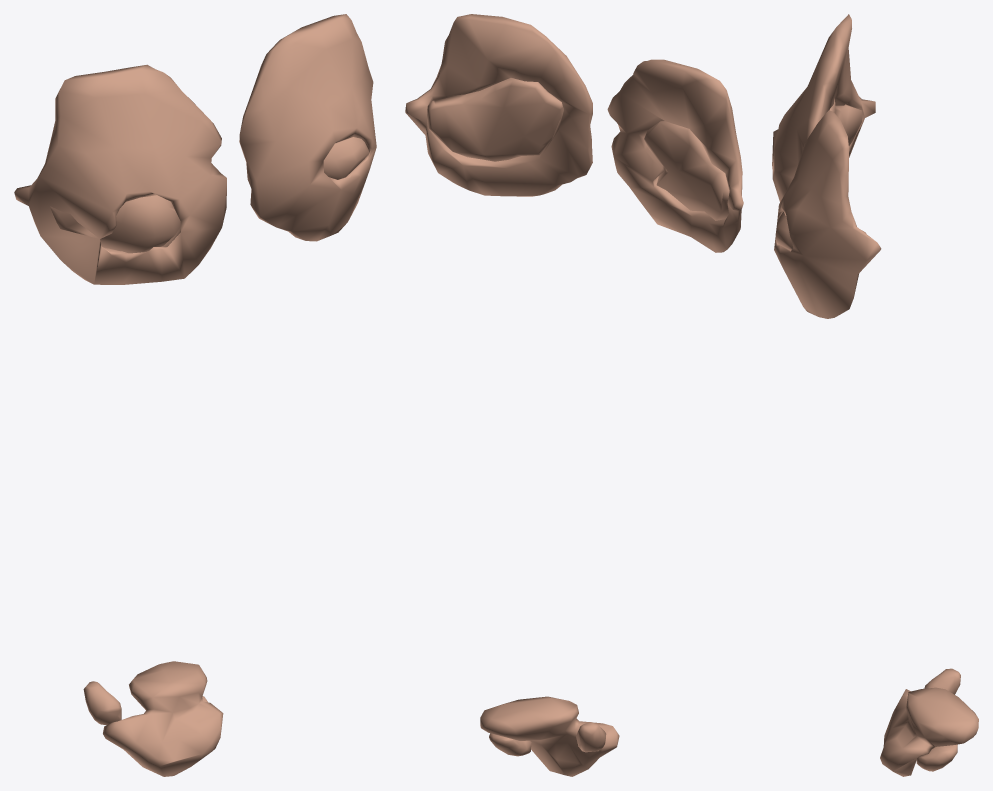
Rendered from icrp_adult_female.reproductive.LOD2.glb.
3 views of the same model, side by side, from view 1: azimuth 30°, elevation 25°; view 2: azimuth 150°, elevation 25°; view 3: azimuth 270°, elevation 25° (orthographic). The views are drawn at different scales.
Parts seen in each view (by area): view 1: ICRP.ADULT.FEMALE.REPRODUCTIVE.BREAST_ADIPOSE_TISSUE.R, ICRP.ADULT.FEMALE.REPRODUCTIVE.BREAST_ADIPOSE_TISSUE.L, ICRP.ADULT.FEMALE.REPRODUCTIVE.UTERUS, ICRP.ADULT.FEMALE.REPRODUCTIVE.BREAST_GLANDULAR_TISSUE.R, ICRP.ADULT.FEMALE.REPRODUCTIVE.BREAST_GLANDULAR_TISSUE.L, ICRP.ADULT.FEMALE.REPRODUCTIVE.OVARY.R; view 2: ICRP.ADULT.FEMALE.REPRODUCTIVE.BREAST_ADIPOSE_TISSUE.L, ICRP.ADULT.FEMALE.REPRODUCTIVE.BREAST_ADIPOSE_TISSUE.R, ICRP.ADULT.FEMALE.REPRODUCTIVE.BREAST_GLANDULAR_TISSUE.L, ICRP.ADULT.FEMALE.REPRODUCTIVE.UTERUS, ICRP.ADULT.FEMALE.REPRODUCTIVE.BREAST_GLANDULAR_TISSUE.R, ICRP.ADULT.FEMALE.REPRODUCTIVE.OVARY.R, ICRP.ADULT.FEMALE.REPRODUCTIVE.OVARY.L; view 3: ICRP.ADULT.FEMALE.REPRODUCTIVE.BREAST_ADIPOSE_TISSUE.L, ICRP.ADULT.FEMALE.REPRODUCTIVE.BREAST_ADIPOSE_TISSUE.R, ICRP.ADULT.FEMALE.REPRODUCTIVE.UTERUS, ICRP.ADULT.FEMALE.REPRODUCTIVE.BREAST_GLANDULAR_TISSUE.R, ICRP.ADULT.FEMALE.REPRODUCTIVE.OVARY.L, ICRP.ADULT.FEMALE.REPRODUCTIVE.OVARY.R, ICRP.ADULT.FEMALE.REPRODUCTIVE.BREAST_GLANDULAR_TISSUE.L.
Part boxes in pixels (bbox=[...]): ICRP.ADULT.FEMALE.REPRODUCTIVE.BREAST_ADIPOSE_TISSUE.R: bbox=[14, 64, 226, 284]; ICRP.ADULT.FEMALE.REPRODUCTIVE.BREAST_ADIPOSE_TISSUE.L: bbox=[239, 14, 376, 241]; ICRP.ADULT.FEMALE.REPRODUCTIVE.UTERUS: bbox=[103, 661, 223, 776]; ICRP.ADULT.FEMALE.REPRODUCTIVE.BREAST_GLANDULAR_TISSUE.R: bbox=[100, 195, 180, 253]; ICRP.ADULT.FEMALE.REPRODUCTIVE.BREAST_GLANDULAR_TISSUE.L: bbox=[323, 137, 369, 179]; ICRP.ADULT.FEMALE.REPRODUCTIVE.OVARY.R: bbox=[83, 681, 121, 724]; ICRP.ADULT.FEMALE.REPRODUCTIVE.BREAST_ADIPOSE_TISSUE.L: bbox=[405, 14, 592, 196]; ICRP.ADULT.FEMALE.REPRODUCTIVE.BREAST_ADIPOSE_TISSUE.R: bbox=[607, 59, 743, 252]; ICRP.ADULT.FEMALE.REPRODUCTIVE.BREAST_GLANDULAR_TISSUE.L: bbox=[427, 78, 563, 161]; ICRP.ADULT.FEMALE.REPRODUCTIVE.UTERUS: bbox=[480, 696, 619, 776]; ICRP.ADULT.FEMALE.REPRODUCTIVE.BREAST_GLANDULAR_TISSUE.R: bbox=[643, 120, 729, 220]; ICRP.ADULT.FEMALE.REPRODUCTIVE.OVARY.R: bbox=[576, 722, 606, 752]; ICRP.ADULT.FEMALE.REPRODUCTIVE.OVARY.L: bbox=[489, 733, 531, 756]; ICRP.ADULT.FEMALE.REPRODUCTIVE.BREAST_ADIPOSE_TISSUE.L: bbox=[774, 110, 881, 318]; ICRP.ADULT.FEMALE.REPRODUCTIVE.BREAST_ADIPOSE_TISSUE.R: bbox=[772, 14, 875, 201]; ICRP.ADULT.FEMALE.REPRODUCTIVE.UTERUS: bbox=[880, 687, 978, 776]; ICRP.ADULT.FEMALE.REPRODUCTIVE.BREAST_GLANDULAR_TISSUE.R: bbox=[772, 99, 862, 168]; ICRP.ADULT.FEMALE.REPRODUCTIVE.OVARY.L: bbox=[916, 744, 957, 771]; ICRP.ADULT.FEMALE.REPRODUCTIVE.OVARY.R: bbox=[924, 668, 960, 694]; ICRP.ADULT.FEMALE.REPRODUCTIVE.BREAST_GLANDULAR_TISSUE.L: bbox=[775, 211, 866, 249].
Bounding box in the file's own units: 0.2627 × 0.5275 × 0.1419.
